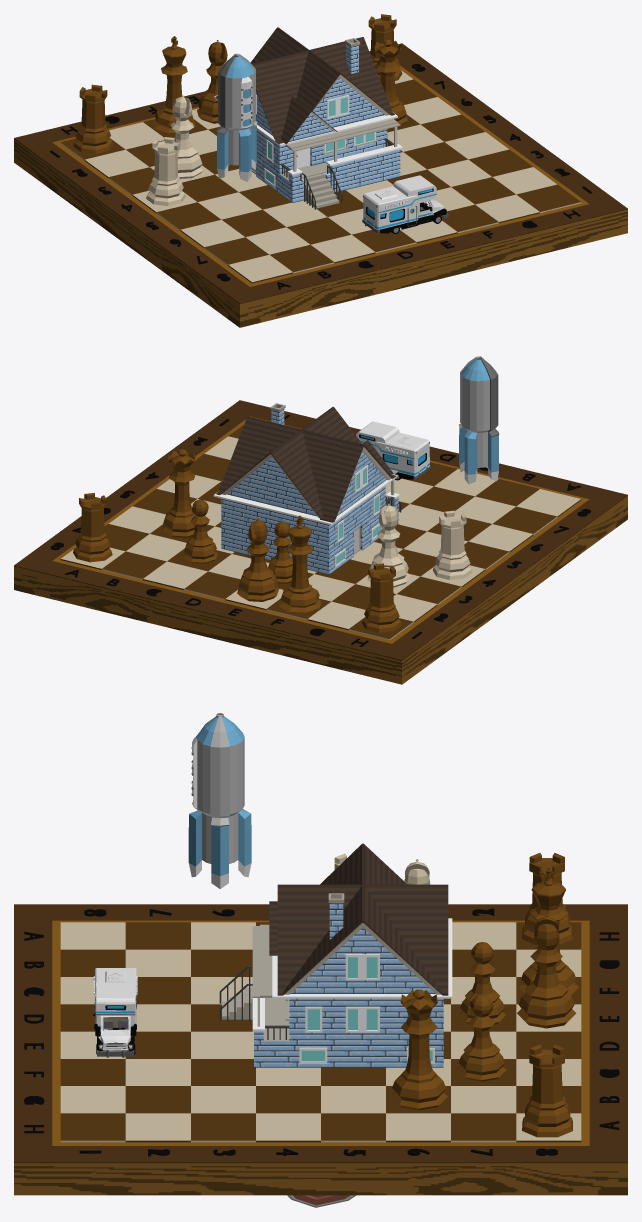
3 renders of one model, top to bottom at view 1: azimuth 30°, elevation 25°; view 2: azimuth 150°, elevation 25°; view 3: azimuth 270°, elevation 25°, orthographic. The views are drawn at different scales.
Parts seen in each view (by area): view 1: Cube.002, Cube.547, OBJRANDOM_ROCKETSHIP, VEHICLES_CAMPER; view 2: Cube.002, Cube.547, OBJRANDOM_ROCKETSHIP, VEHICLES_CAMPER; view 3: Cube.002, Cube.547, OBJRANDOM_ROCKETSHIP, VEHICLES_CAMPER.
Boxes of the visible parts, x1=… form: Cube.002: x1=14, y1=14, x2=627, y2=327; Cube.547: x1=214, y1=27, x2=402, y2=209; OBJRANDOM_ROCKETSHIP: x1=216, y1=53, x2=257, y2=181; VEHICLES_CAMPER: x1=362, y1=175, x2=448, y2=233; Cube.002: x1=14, y1=400, x2=627, y2=684; Cube.547: x1=213, y1=403, x2=401, y2=574; OBJRANDOM_ROCKETSHIP: x1=459, y1=356, x2=499, y2=484; VEHICLES_CAMPER: x1=356, y1=421, x2=430, y2=480; Cube.002: x1=14, y1=853, x2=627, y2=1195; Cube.547: x1=219, y1=843, x2=452, y2=1067; OBJRANDOM_ROCKETSHIP: x1=188, y1=713, x2=251, y2=888; VEHICLES_CAMPER: x1=93, y1=968, x2=137, y2=1057.
Size of the model in its own units: 3981 by 2753 by 4012.
36 materials, 3 textured.
